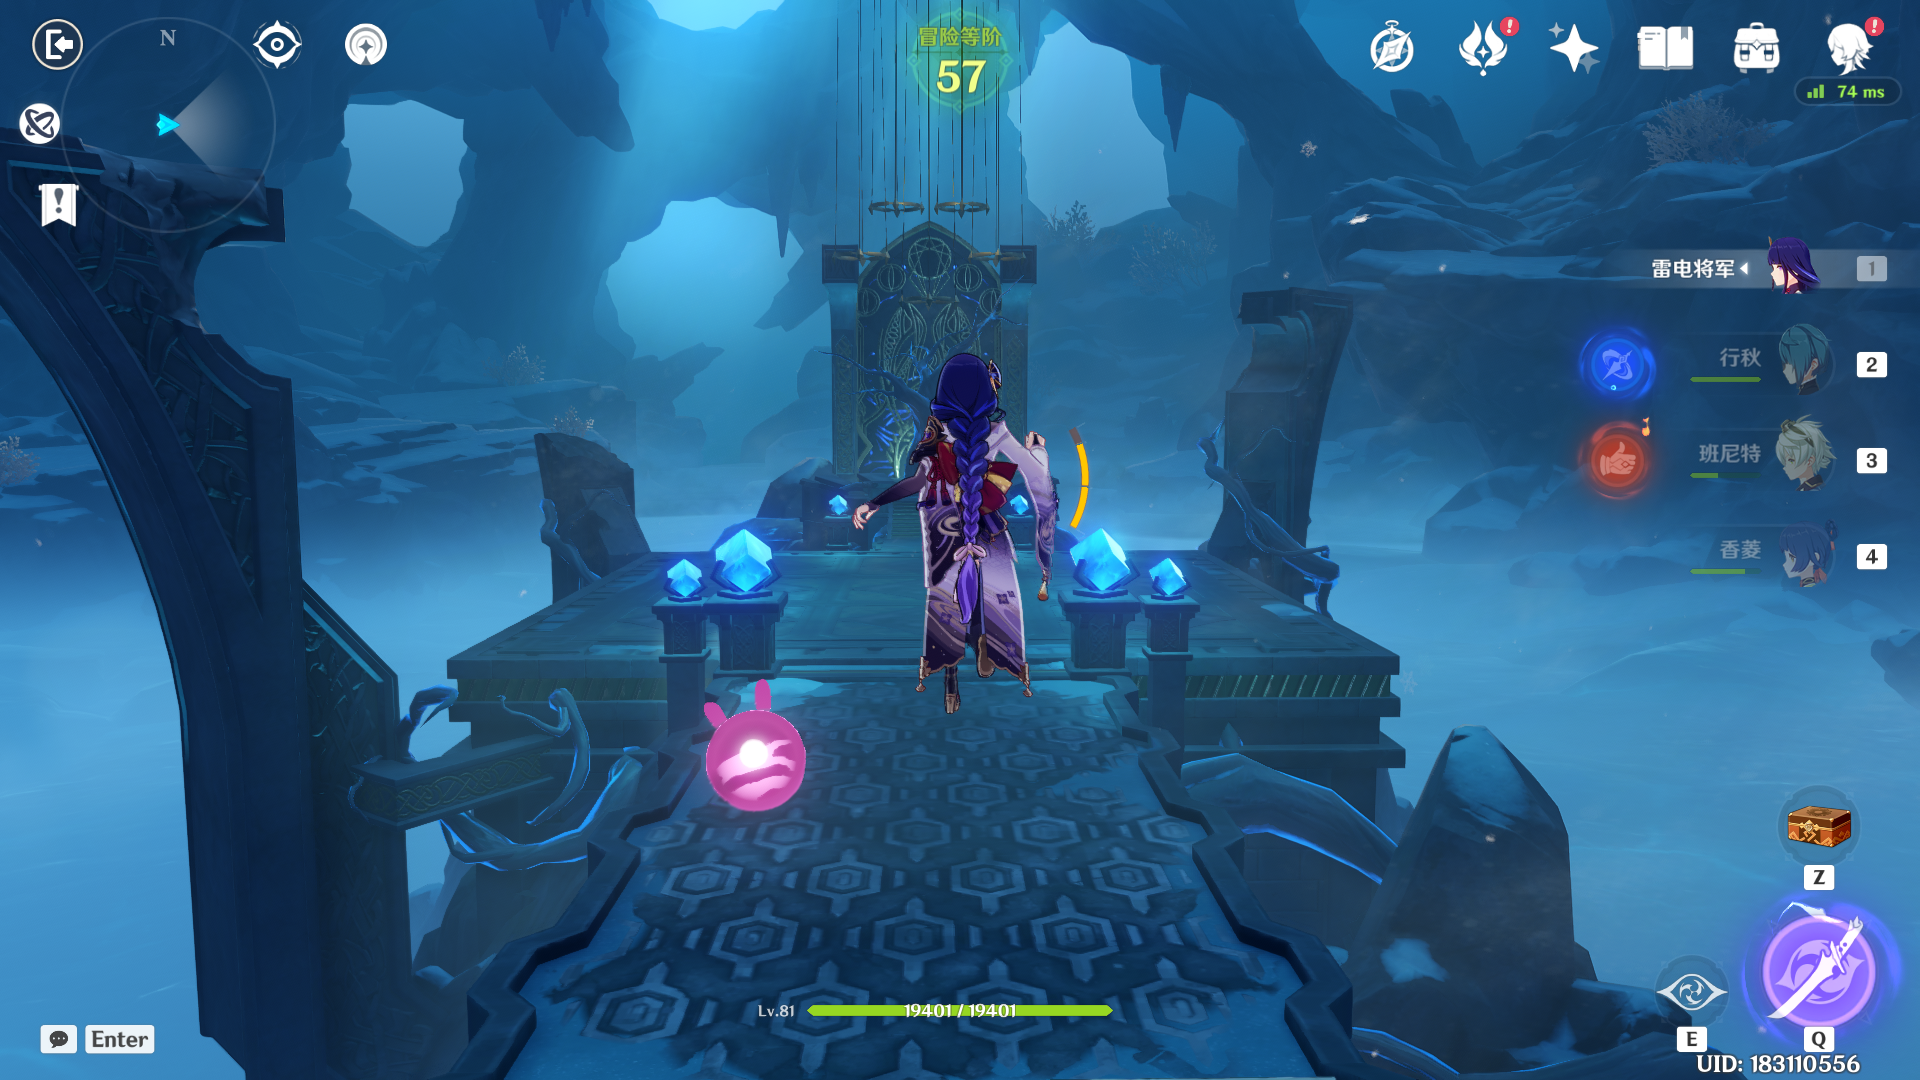character: (825, 332, 1116, 746)
